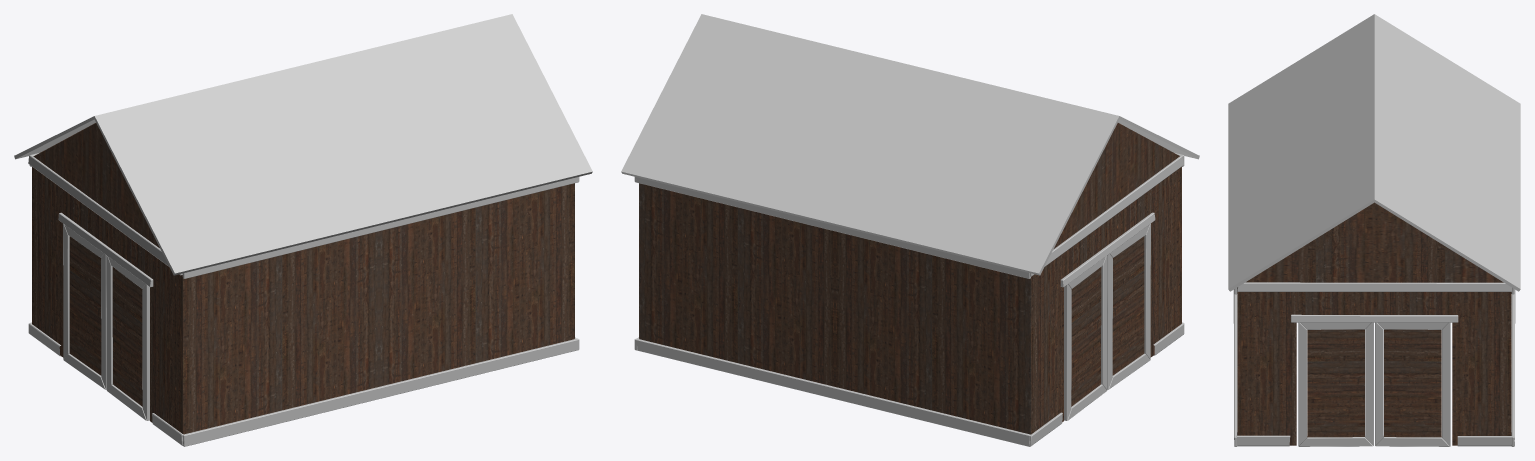
The model's file is sarai.fbx.
3 renders of one model, left to right at view 1: azimuth 30°, elevation 25°; view 2: azimuth 150°, elevation 25°; view 3: azimuth 270°, elevation 25°, orthographic. The views are drawn at different scales.
Visible parts, largest first — view 1: Куб, Куб.013; view 2: Куб, Куб.013; view 3: Куб, Куб.013.
Boxes of the visible parts, left/top/right/bottom form: Куб: left=14, top=14, right=592, bottom=446; Куб.013: left=63, top=223, right=149, bottom=420; Куб: left=621, top=14, right=1199, bottom=446; Куб.013: left=1064, top=223, right=1150, bottom=420; Куб: left=1228, top=14, right=1520, bottom=446; Куб.013: left=1298, top=322, right=1450, bottom=446.
Size of the model in its own units: 959 by 639 by 609.
